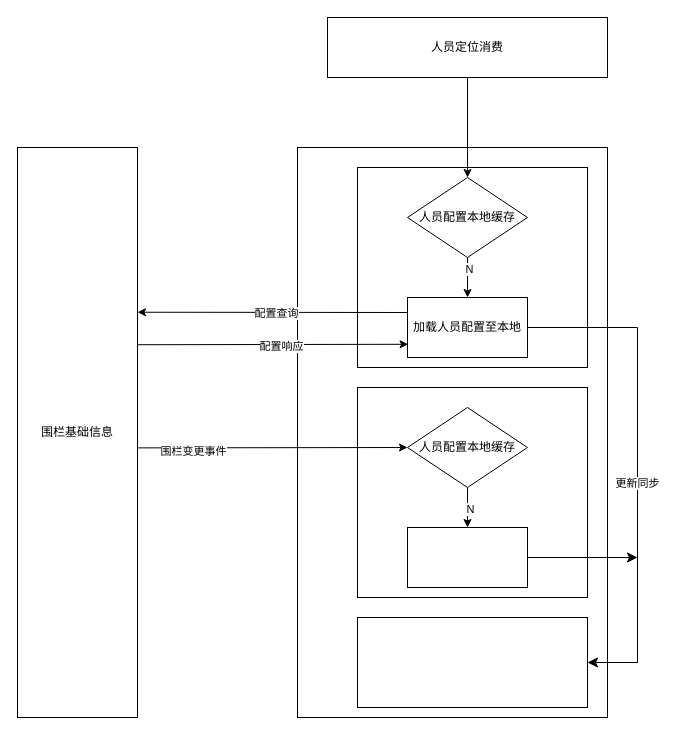
Image size: 676x735. Some labels were removed from this diagram. Here are the shapes that lost their labels. From the top down, the centre of each, then its label:
At point (467, 557): "解析新配置，加载本地缓存".
At point (472, 662): "本地缓存".
